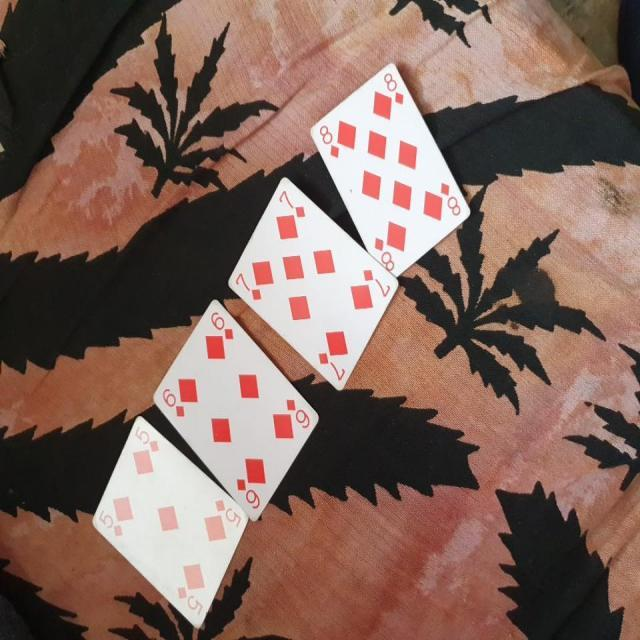5 of diamonds: (90, 412, 251, 626)
6 of diamonds: (152, 295, 322, 520)
7 of diamonds: (228, 174, 398, 394)
8 of diamonds: (308, 61, 472, 276)
